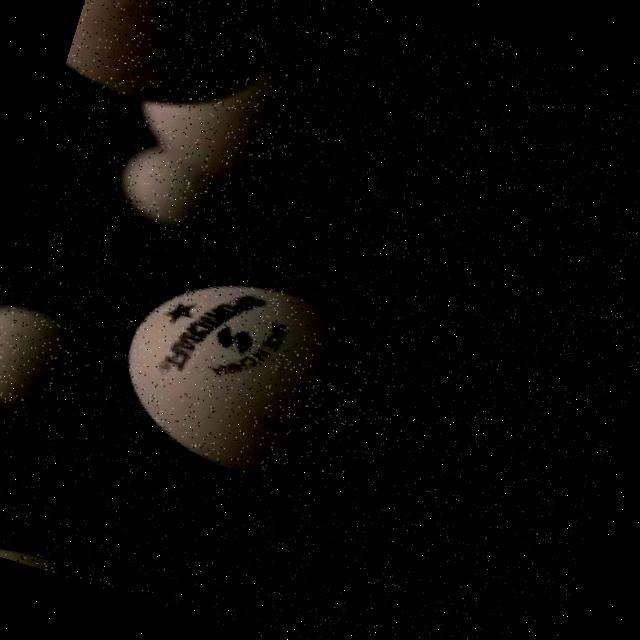ping-pong-ball: (100, 260, 416, 510), (59, 0, 291, 135), (0, 291, 121, 435)
